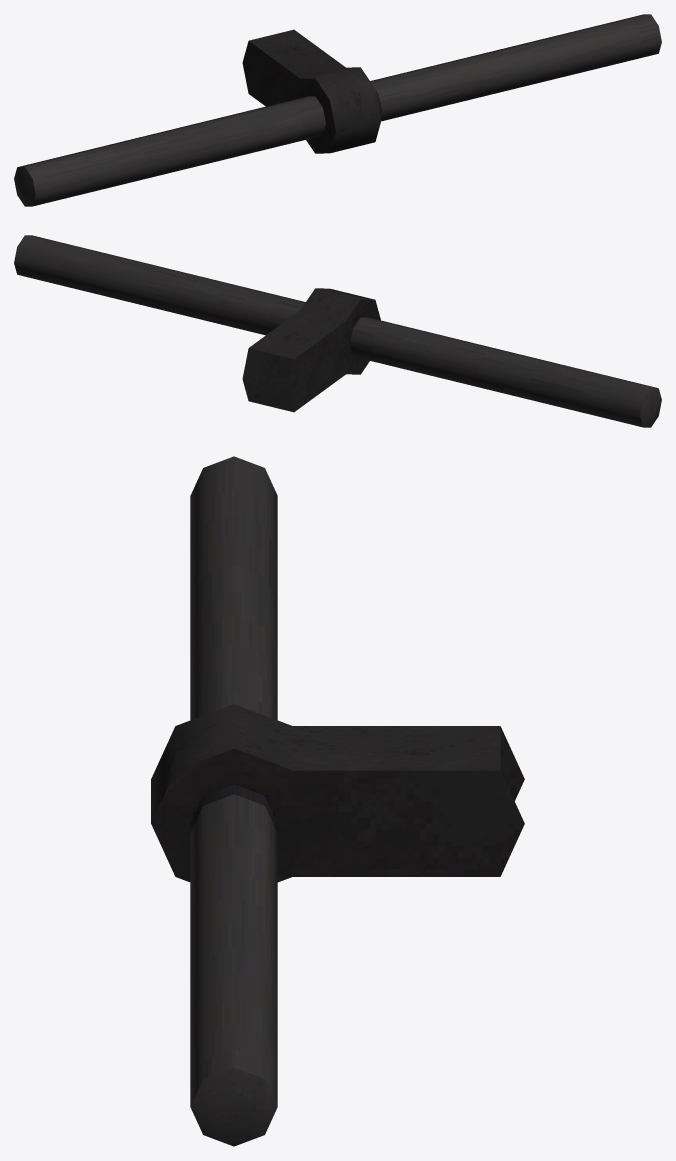
The picture shows the model from 3 angles, top to bottom: view 1: azimuth 30°, elevation 25°; view 2: azimuth 150°, elevation 25°; view 3: azimuth 270°, elevation 25°; orthographic projection. The views are drawn at different scales.
Parts seen in each view (by area): view 1: 10; view 2: 10; view 3: 10.
Boxes of the visible parts, left/top/right/bottom form: 10: left=14, top=14, right=661, bottom=206; 10: left=14, top=235, right=661, bottom=427; 10: left=151, top=456, right=524, bottom=1146.
Size of the model in its own units: 2.13 by 0.2408 by 0.5423.
1 material, 1 textured.
